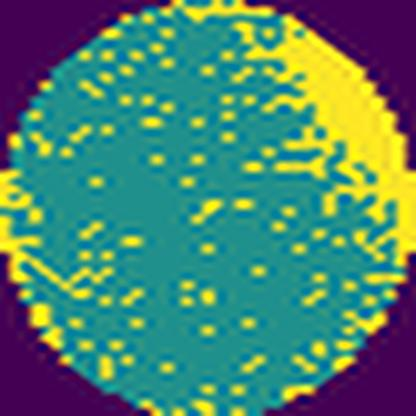Edge-Loc: (244, 0, 415, 273)
